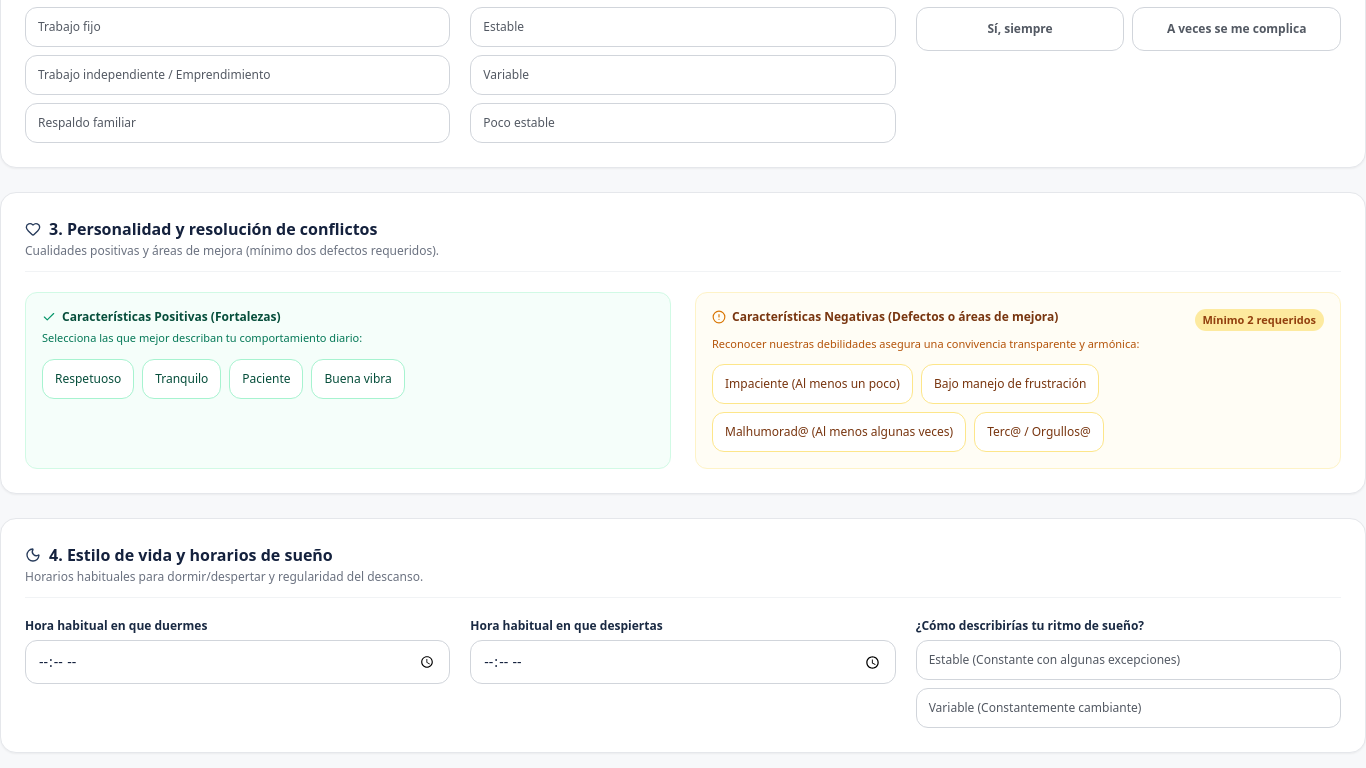
Test: PreferenciasRoomie component › valida la regla del PDF: muestra advertencia si solo se selecciona 1 defecto
(page scrolled)
# Clic en 1 defecto
Click the button "Impaciente (Al menos un poco)".
click(812, 384)  # box 712,364 -> 913,404
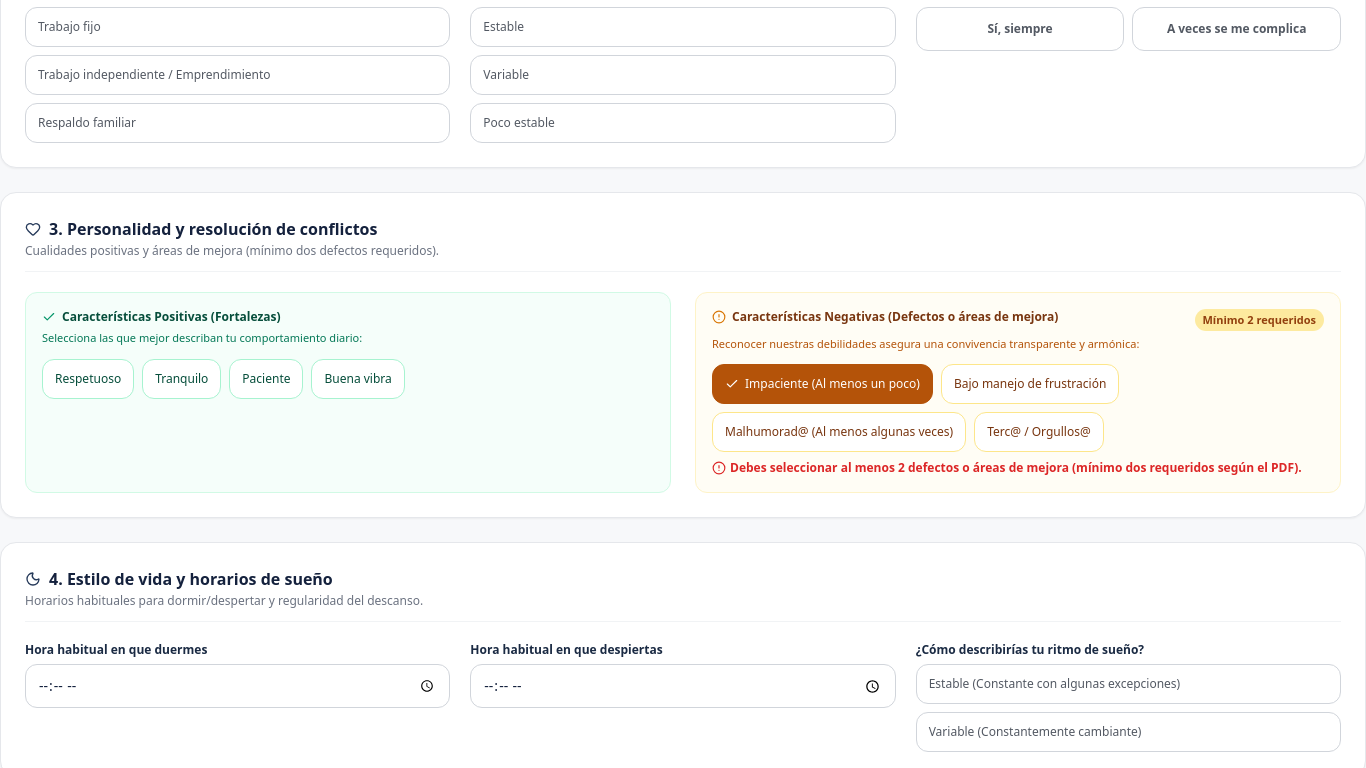
Result: the text "Debes seleccionar al menos 2 defectos o áreas de mejora" is shown at 730,459 -> 1302,476
# Clic en segundo defecto para corregir
Click the button "Malhumorad@ (Al menos algunas veces)".
click(839, 432)  # box 712,412 -> 966,452
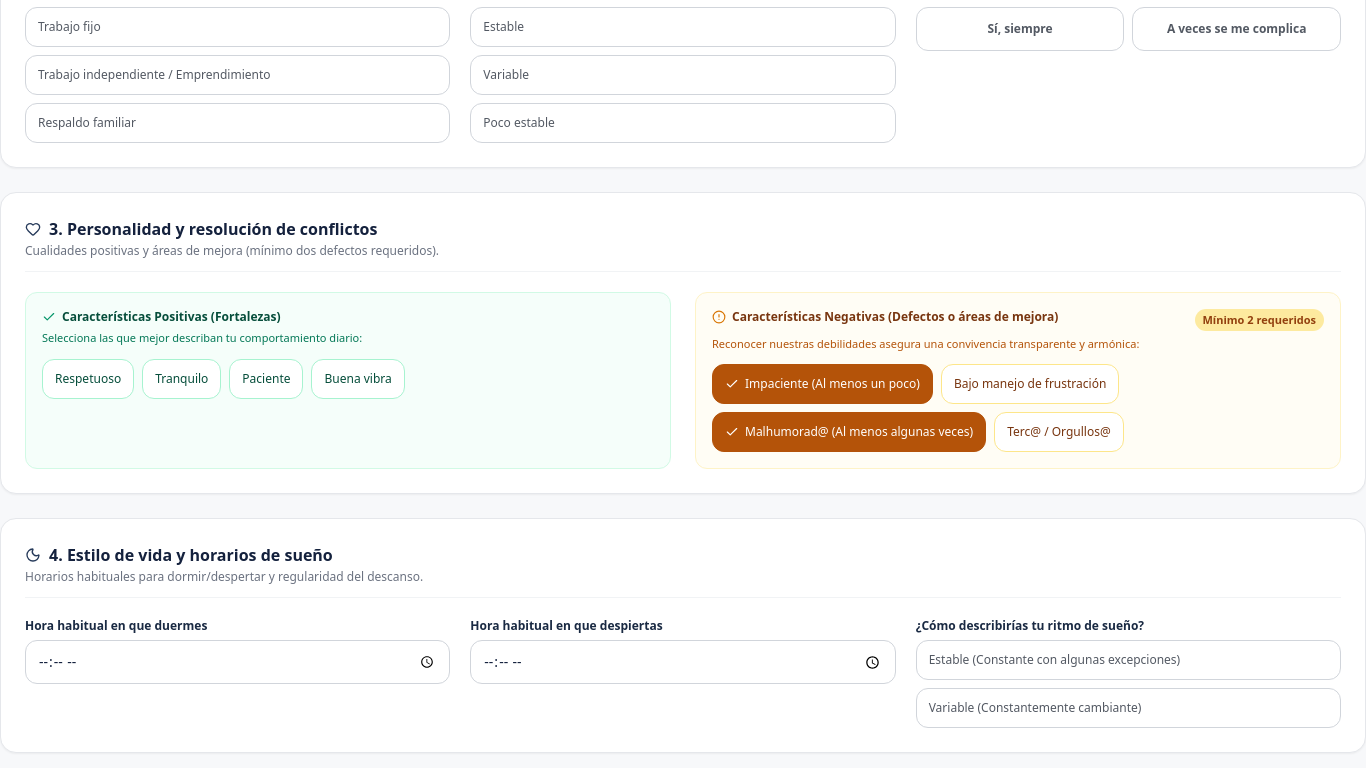
Result: the text "Debes seleccionar al menos 2 defectos o áreas de mejora" is gone
